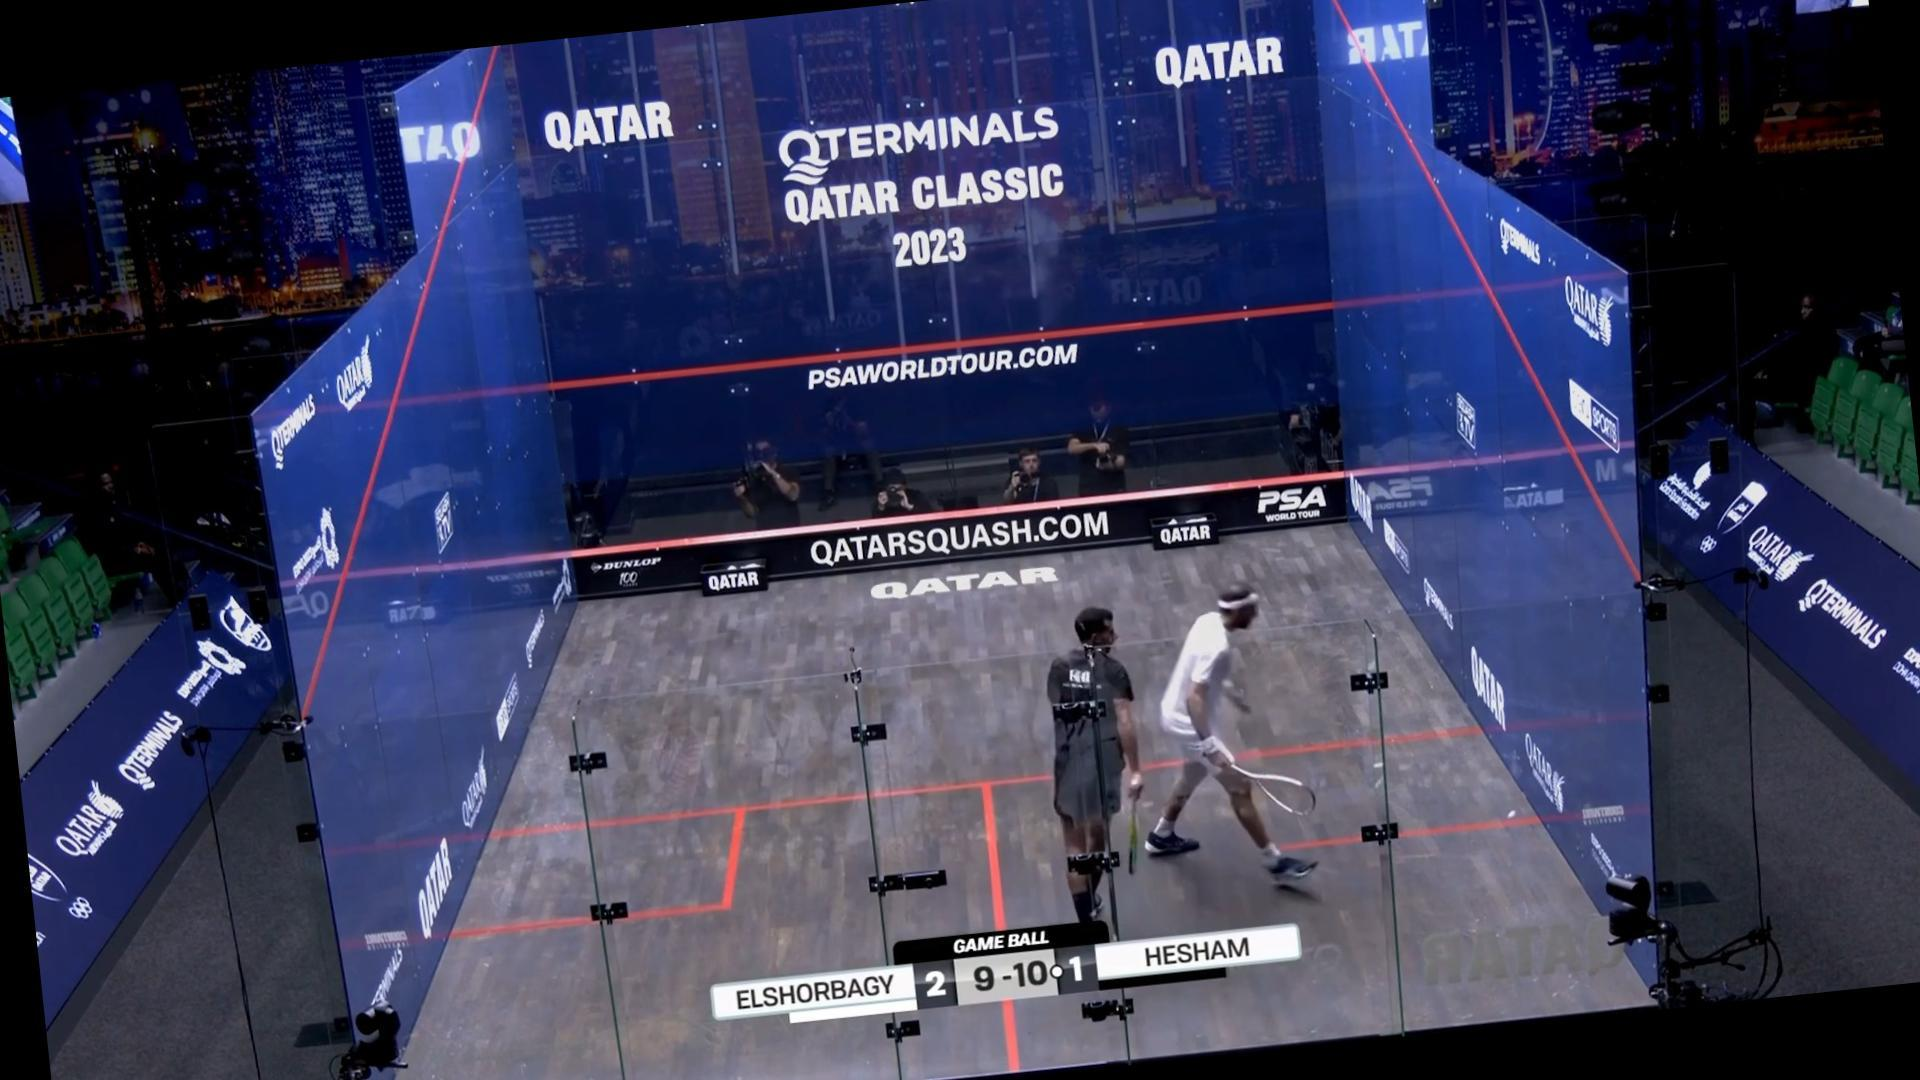Squash-Ball: (1498, 802, 1523, 833)
